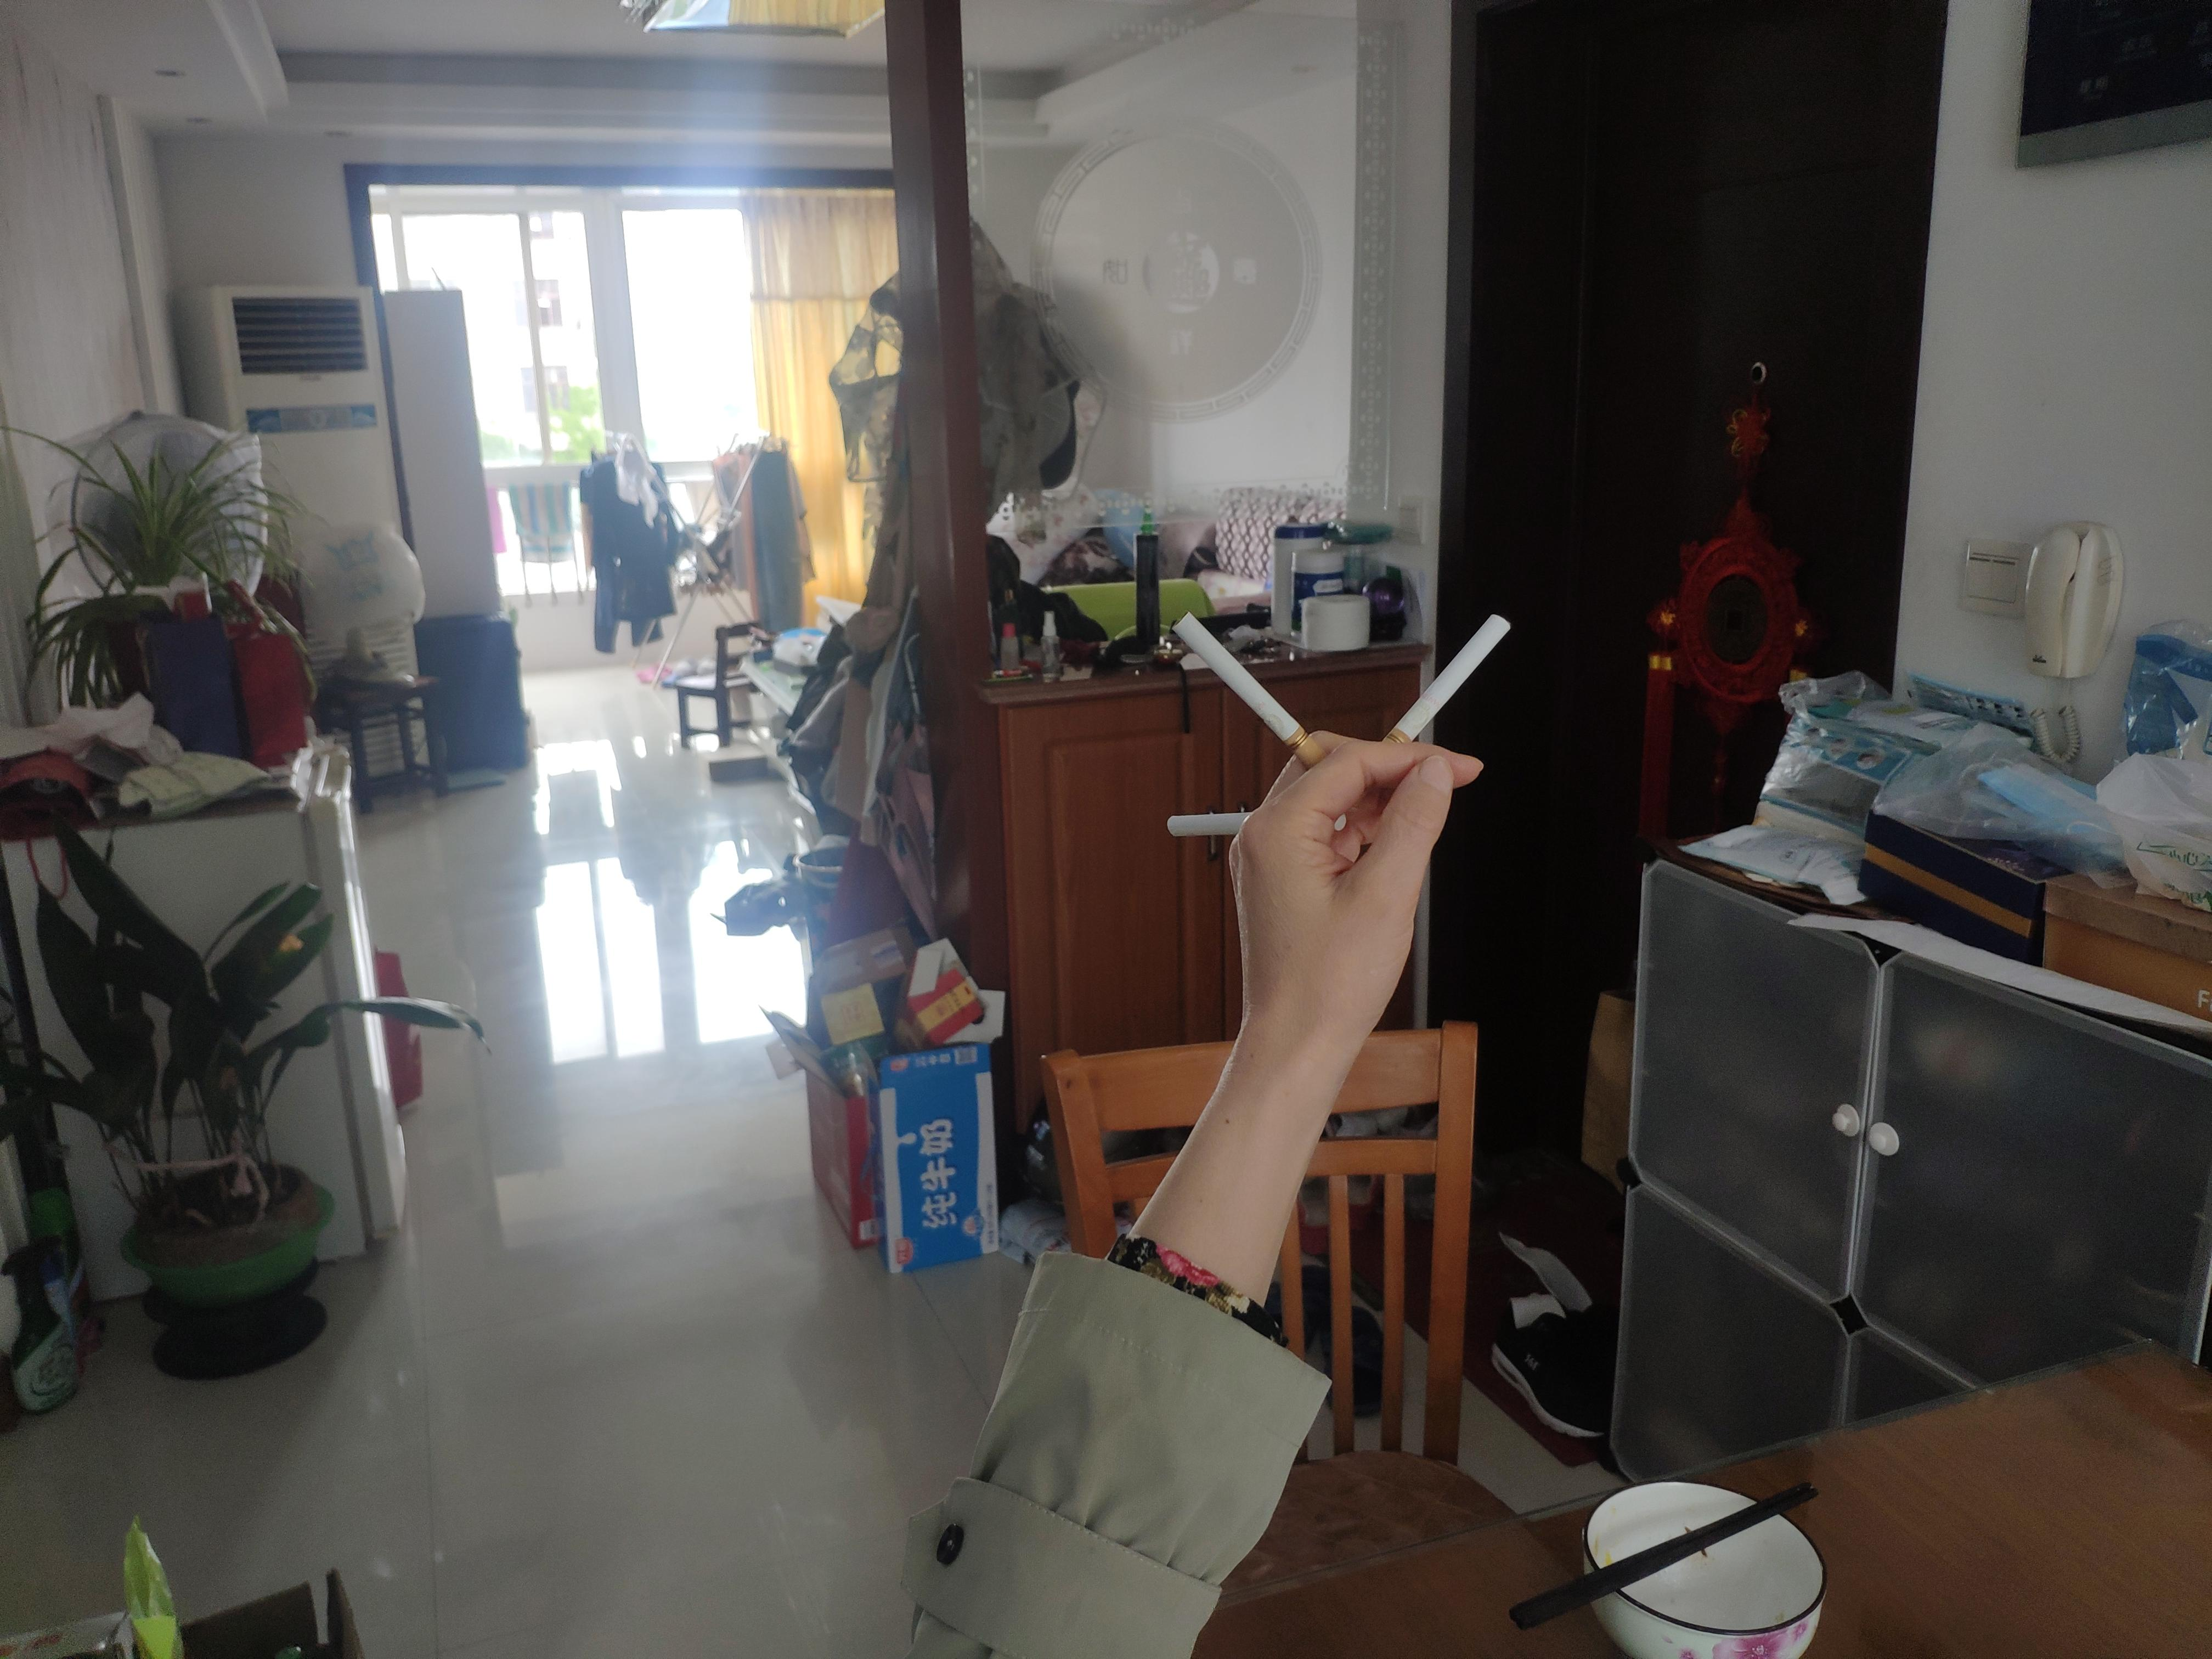smoke: (1170, 612, 1343, 788), (1369, 608, 1517, 765), (1167, 812, 1353, 840)
